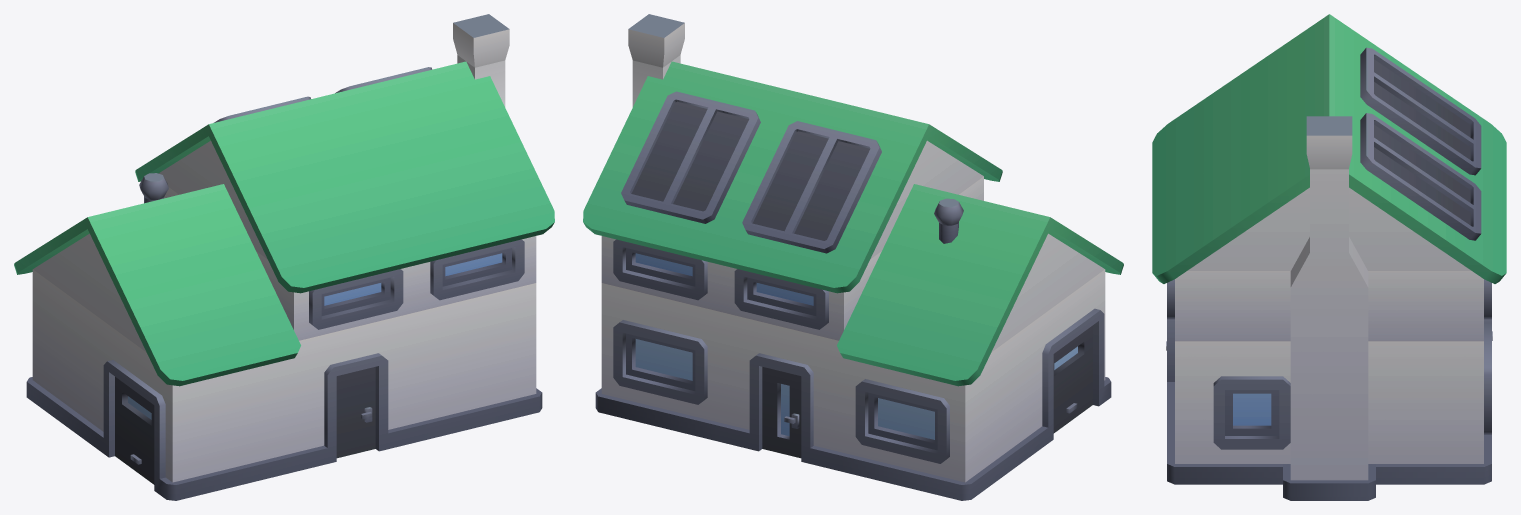
The model's file is k-city-kit-suburban-building-type-j.glb.
3 renders of one model, left to right at view 1: azimuth 30°, elevation 25°; view 2: azimuth 150°, elevation 25°; view 3: azimuth 270°, elevation 25°, orthographic. The views are drawn at different scales.
Visible parts, largest first — view 1: building-type-j; view 2: building-type-j; view 3: building-type-j.
Part boxes in pixels (x1,y1,x2,y2): building-type-j: (14,14,554,500); building-type-j: (583,14,1123,500); building-type-j: (1152,14,1506,500).
Size of the model in its own units: 1.37 by 1.04 by 0.9161.
1 material, 1 textured.
